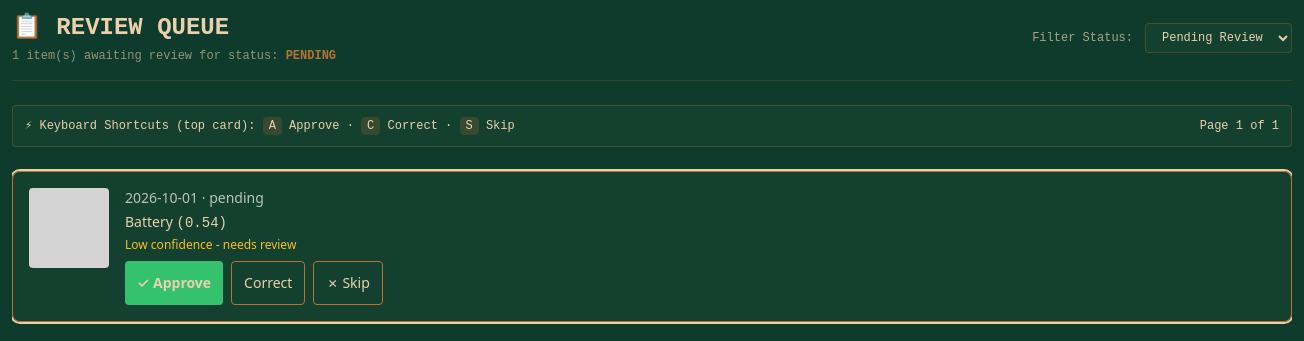
Scenario: approve button sends PATCH and removes item from list
Click the button "✓ Approve" at (174, 283), box 125,261 -> 223,305
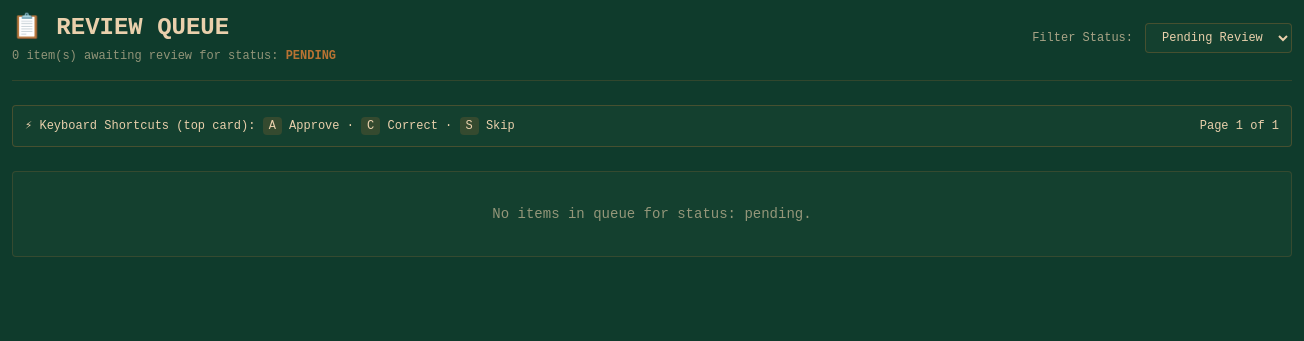
Expected: the text "battery" is gone
